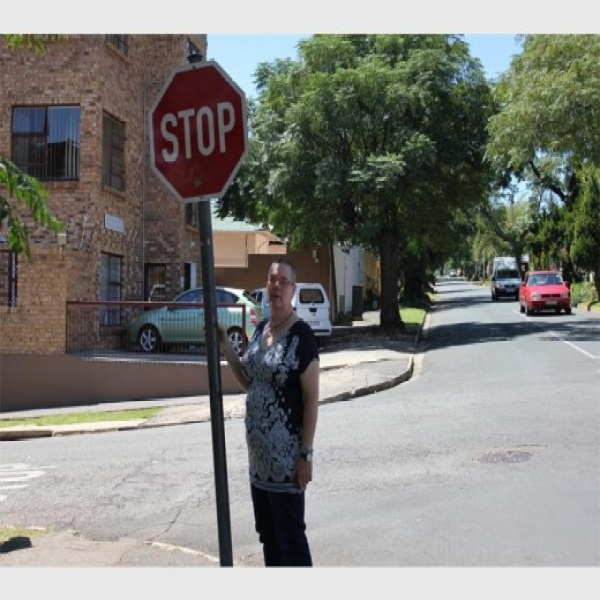stop: (147, 57, 239, 208)
